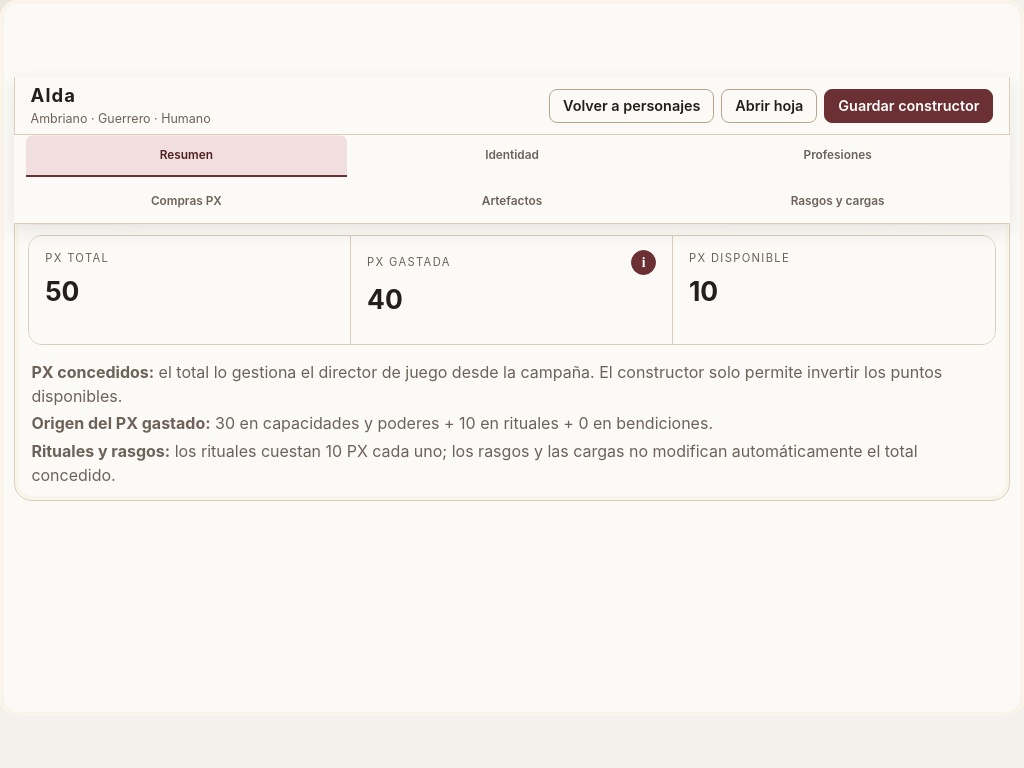
uses full-description fallback, disables unaffordable upgrades and keeps rituals level-less
Click the button "Compras PX": (186, 202) [26,182,347,224]
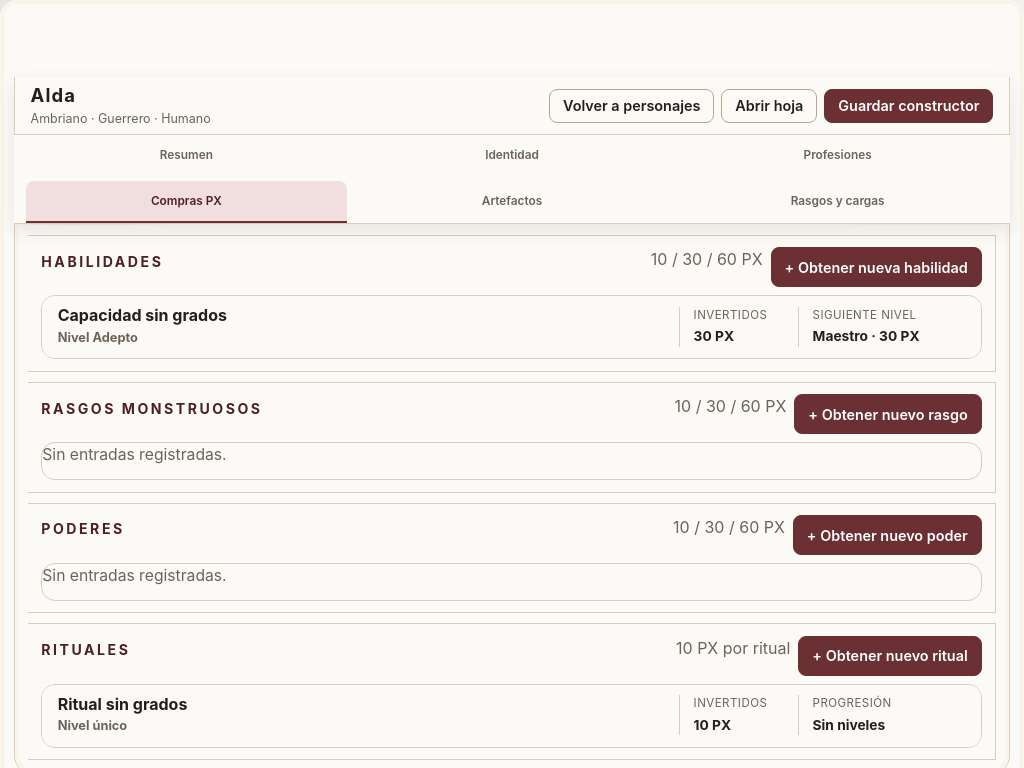
Click the button with aria-label "Ver detalles de Capacidad sin grados": (142, 315) [42,296,981,358]
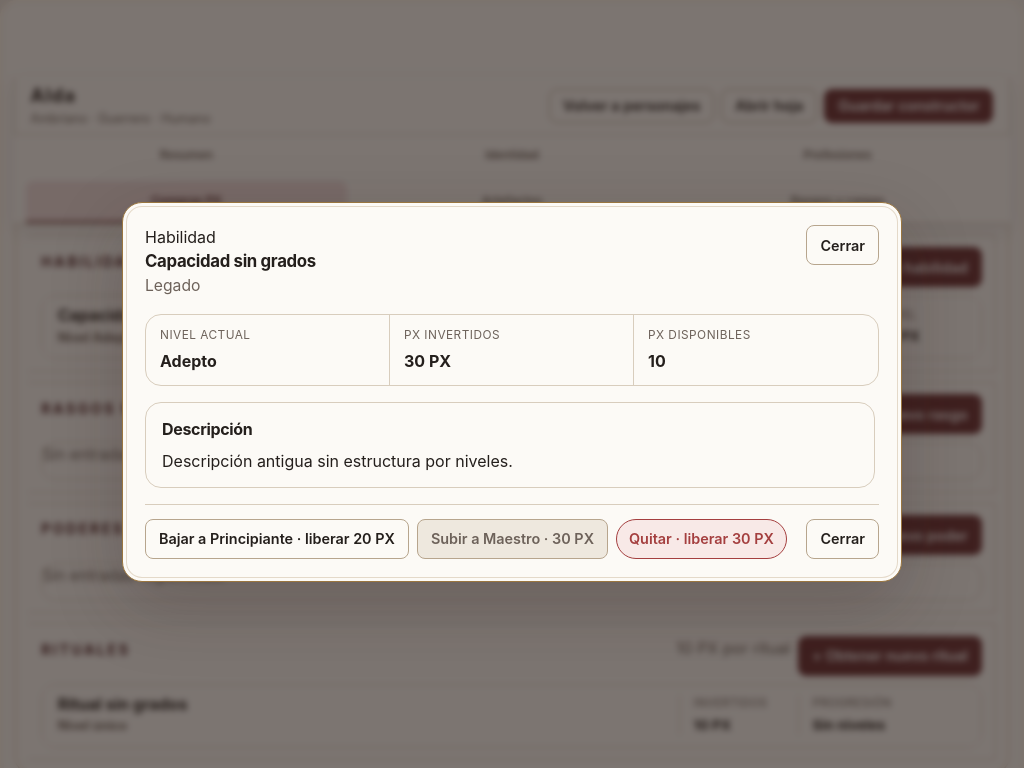
Check: the dialog "Capacidad sin grados" shows "Descripción antigua sin estructura por niveles.", box [162,451,513,471]
Check: the button "Subir a Maestro · 30 PX" is disabled, box [417,519,608,559]
Click the 1st button "Cerrar": (843, 245) [806,225,879,265]
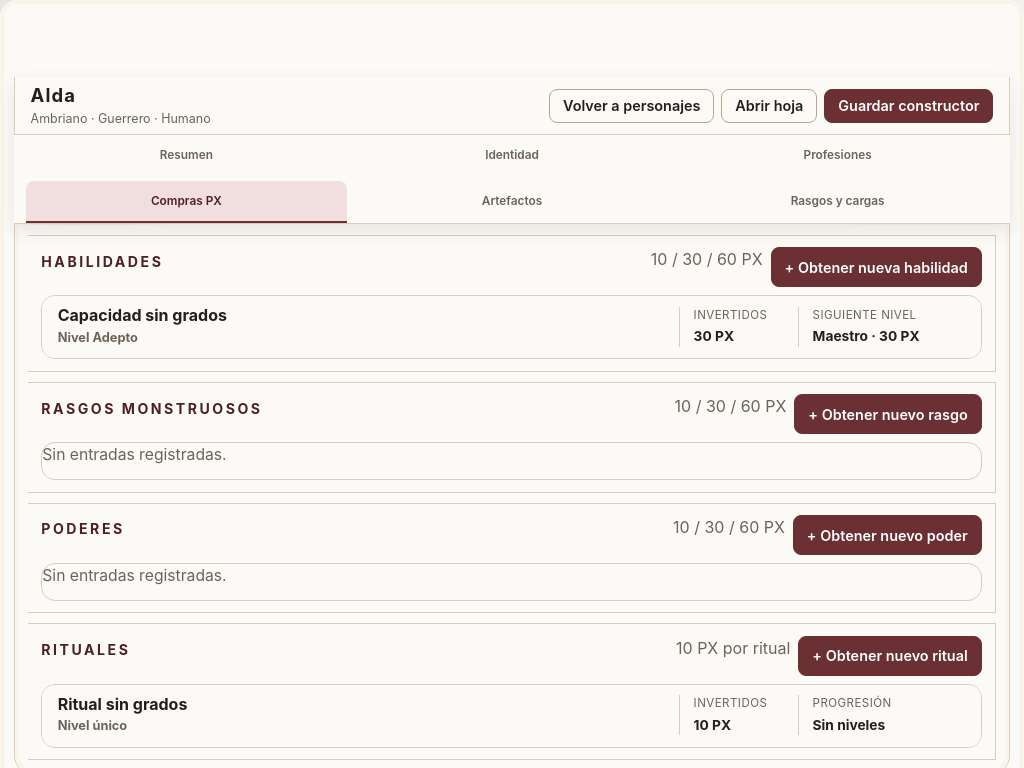
Click the button with aria-label "Ver detalles de Ritual sin grados": (122, 704) [42,685,981,747]
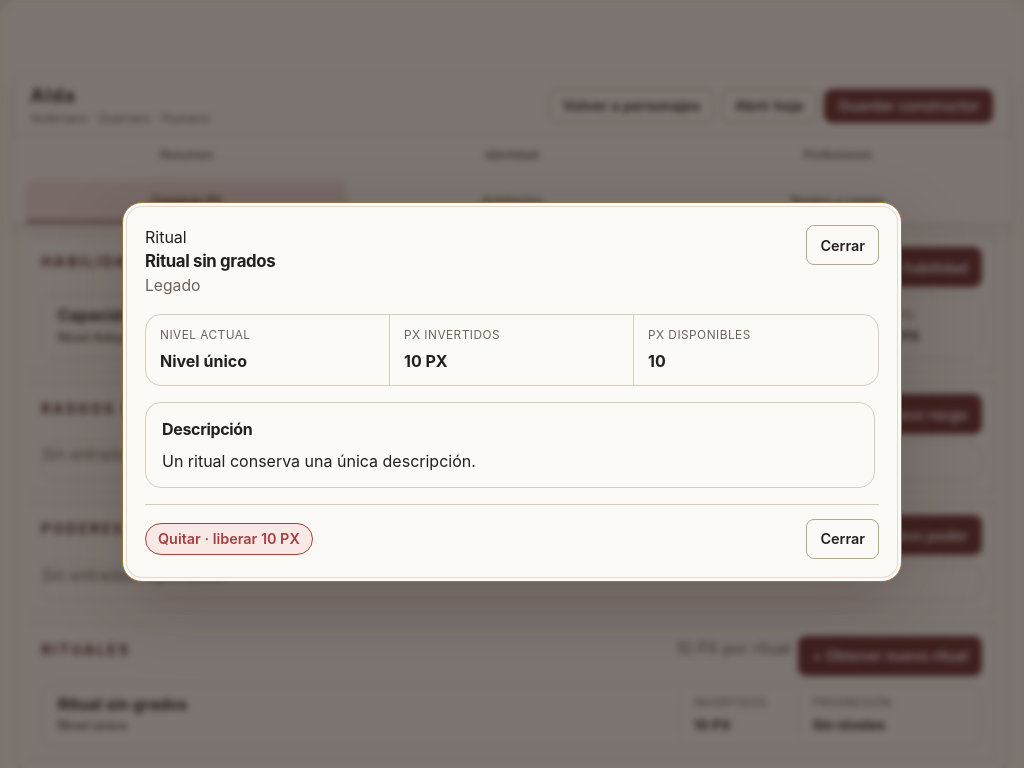
Check: the dialog "Ritual sin grados" shows "Nivel único", box [160,351,247,371]
Check: the dialog "Ritual sin grados" shows "Un ritual conserva una única descripción.", box [162,451,476,471]
Check: the button "Quitar · liberar 10 PX" is shown, box [145,523,313,555]
